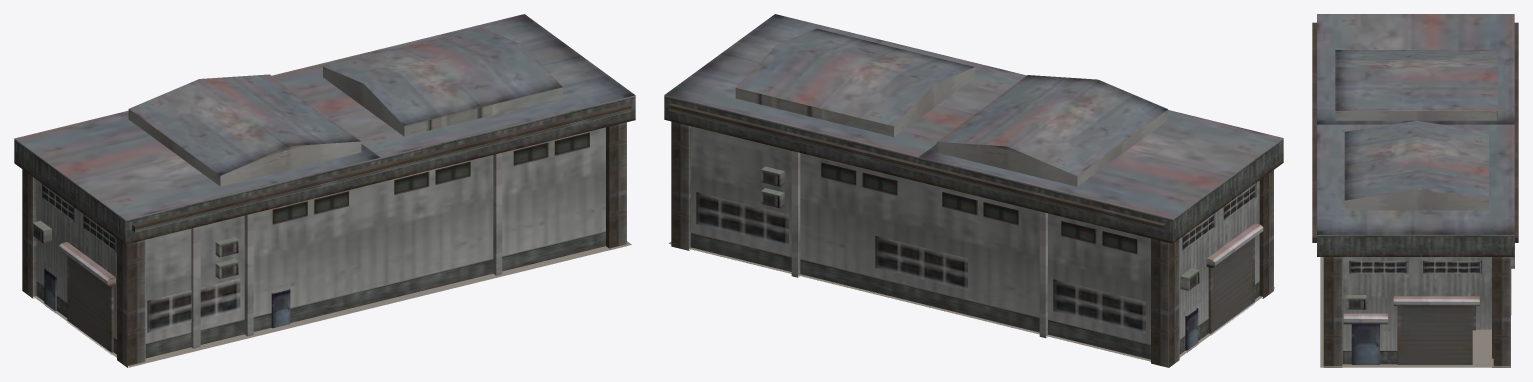
Rendered from ind-warehouse-1.walls-v2.lod1.glb.
3 renders of one model, left to right at view 1: azimuth 30°, elevation 25°; view 2: azimuth 150°, elevation 25°; view 3: azimuth 270°, elevation 25°, orthographic. The views are drawn at different scales.
Visible parts, largest first — view 1: Industrial_Warehouse_1_Industrial_Walls_FLR_1_0, Industrial_Warehouse_1_Industrial_Facade_Flr_1_0, Walkable floors and stairs; view 2: Industrial_Warehouse_1_Industrial_Walls_FLR_1_0, Industrial_Warehouse_1_Industrial_Facade_Flr_1_0, Walkable floors and stairs; view 3: Industrial_Warehouse_1_Industrial_Walls_FLR_1_0, Industrial_Warehouse_1_Industrial_Facade_Flr_1_0, Walkable floors and stairs.
Part boxes in pixels (x1,y1,x2,y2): Industrial_Warehouse_1_Industrial_Walls_FLR_1_0: [14, 14, 635, 367]; Industrial_Warehouse_1_Industrial_Facade_Flr_1_0: [32, 132, 589, 354]; Walkable floors and stairs: [33, 241, 631, 367]; Industrial_Warehouse_1_Industrial_Walls_FLR_1_0: [664, 14, 1283, 367]; Industrial_Warehouse_1_Industrial_Facade_Flr_1_0: [696, 162, 1263, 352]; Walkable floors and stairs: [668, 242, 1274, 361]; Industrial_Warehouse_1_Industrial_Walls_FLR_1_0: [1312, 14, 1518, 367]; Industrial_Warehouse_1_Industrial_Facade_Flr_1_0: [1343, 243, 1514, 364]; Walkable floors and stairs: [1320, 257, 1510, 367].
Size of the model in its own units: 33.83 by 11.12 by 13.36.
Materials: 3 (2 with a texture image).
